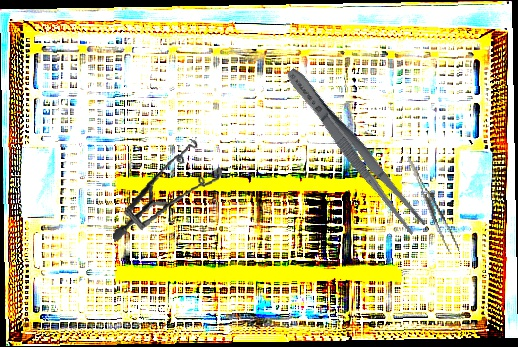Dressing Forceps: (279, 62, 430, 238)
Speculum: (101, 135, 230, 242)
Tissue Forceps: (406, 150, 461, 259)
